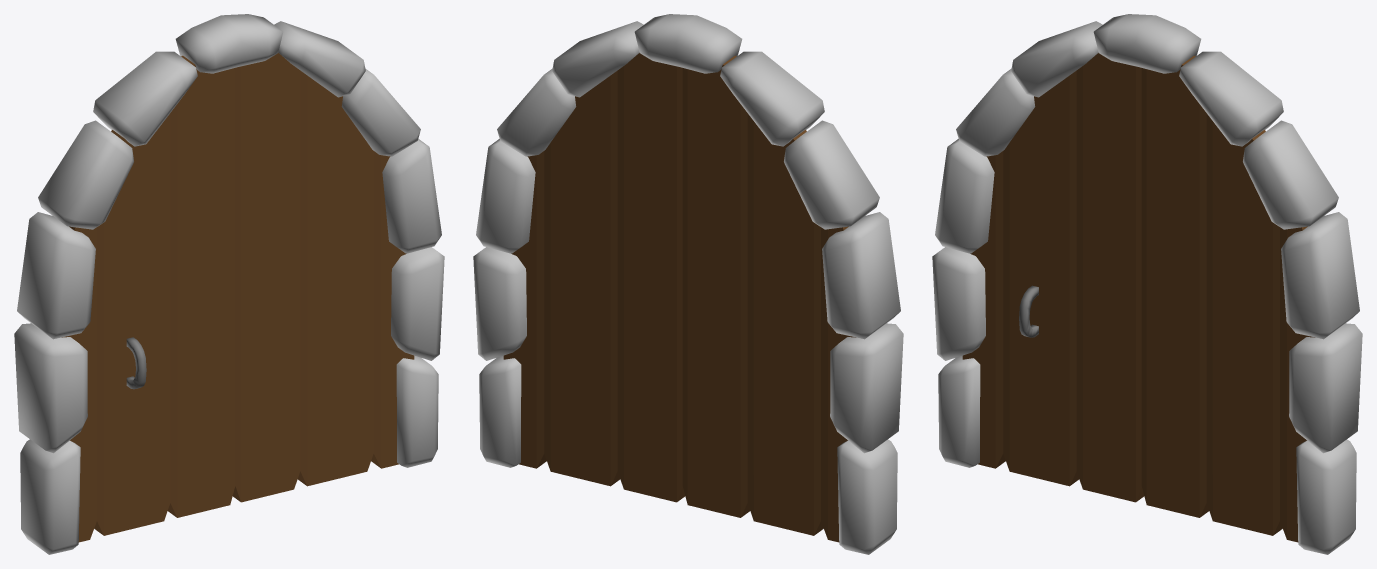
Rendered from Puerta.fbx.
3 views of the same model, side by side, from view 1: azimuth 30°, elevation 25°; view 2: azimuth 150°, elevation 25°; view 3: azimuth 330°, elevation 25° (orthographic).
Visible parts, largest first — view 1: Cube.006, Cube.013, Cube.008; view 2: Cube.006, Cube.013; view 3: Cube.006, Cube.013, Cube.008.
Part boxes in pixels (x1=…): Cube.006: x1=62, y1=53, x2=414, y2=542; Cube.013: x1=14, y1=14, x2=444, y2=554; Cube.008: x1=126, y1=337, x2=146, y2=389; Cube.006: x1=503, y1=53, x2=855, y2=542; Cube.013: x1=473, y1=14, x2=903, y2=554; Cube.006: x1=962, y1=53, x2=1314, y2=542; Cube.013: x1=932, y1=14, x2=1362, y2=554; Cube.008: x1=1019, y1=285, x2=1038, y2=337.
Bounding box in the file's own units: 289 × 330 × 46.88.
